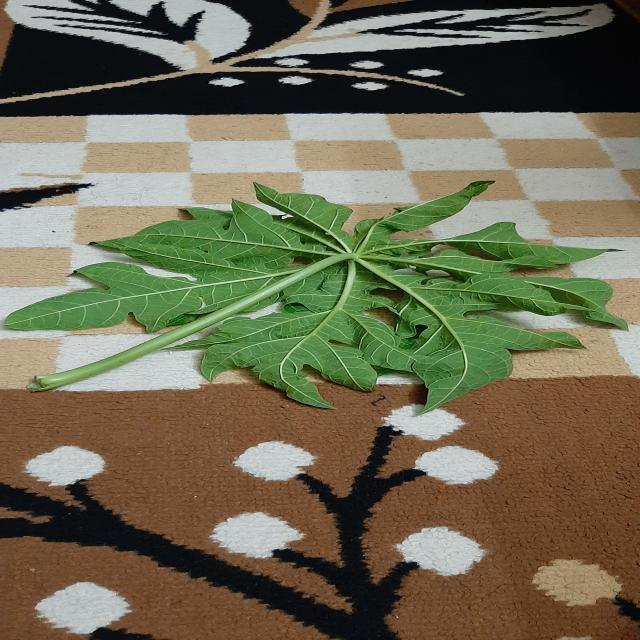papaya: (84, 181, 629, 412)
